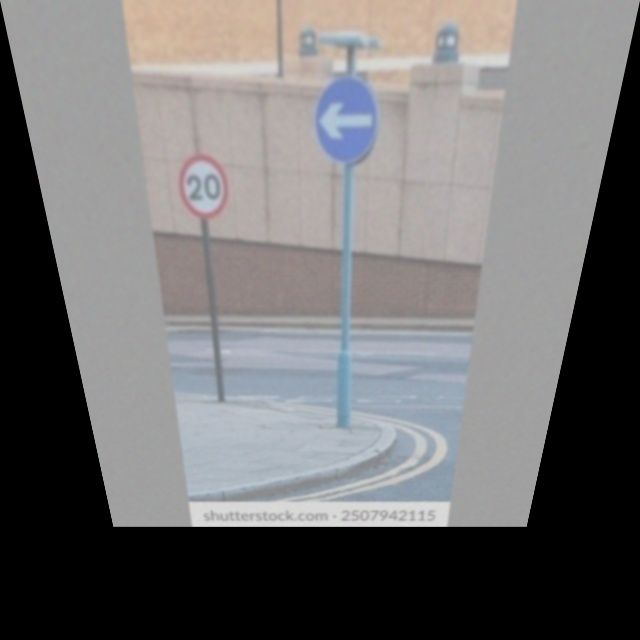Compulsory_Turn_Left: (312, 74, 382, 164)
